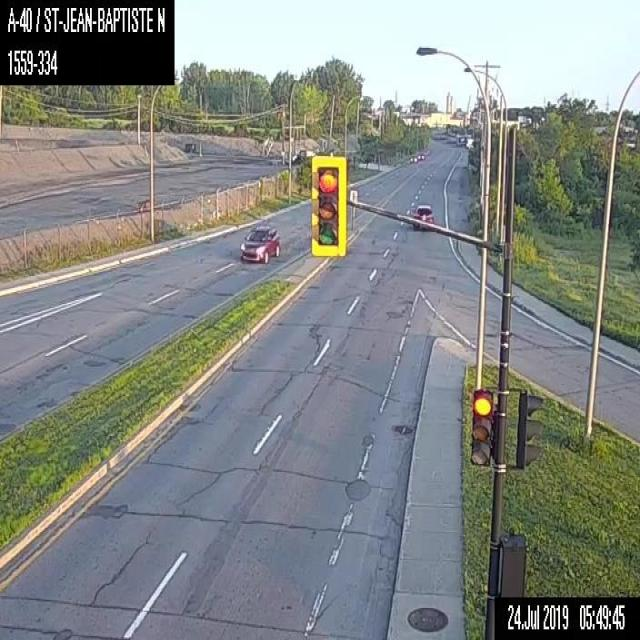vehicle: (238, 223, 280, 264), (412, 203, 433, 228), (409, 155, 417, 162), (416, 152, 424, 158)
